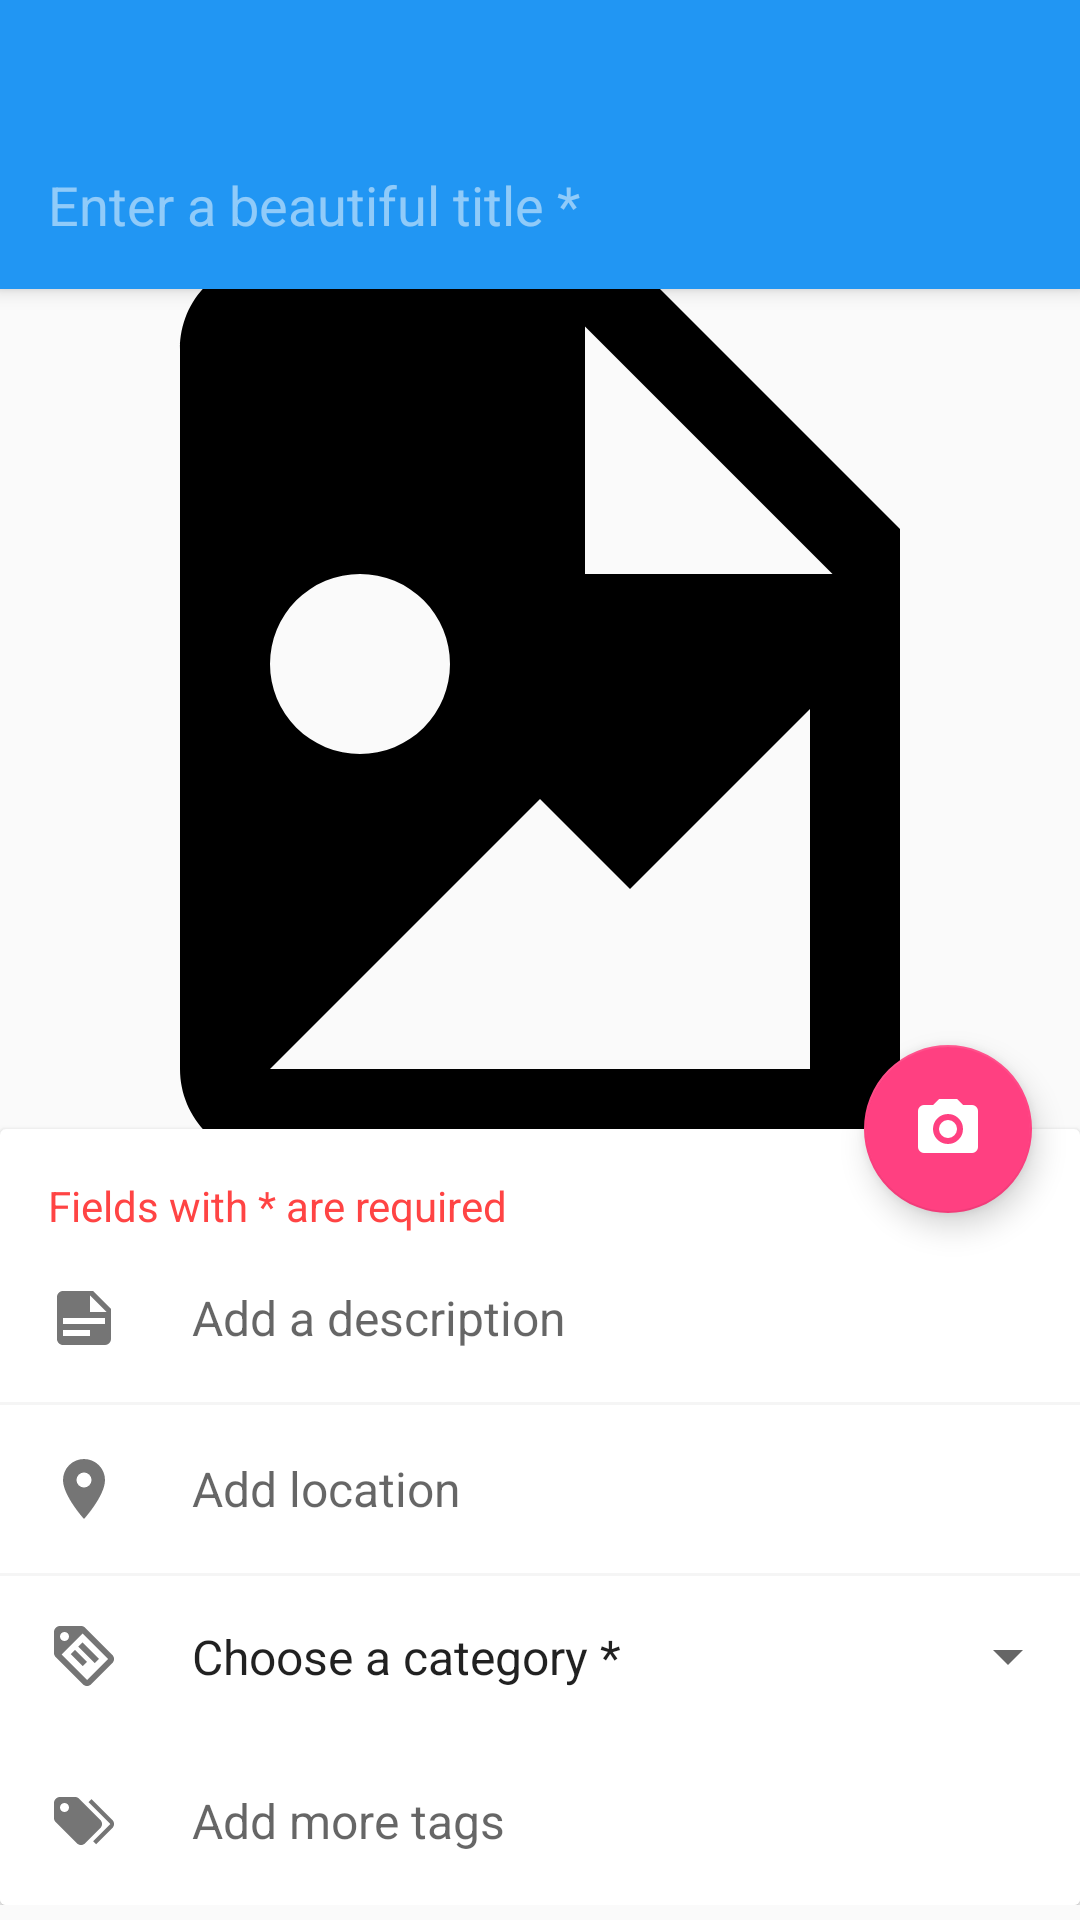

Icons on this 1080 x 1920 Android screen, each with the point to tap as [x,y]:
photo camera: [948,1129]
